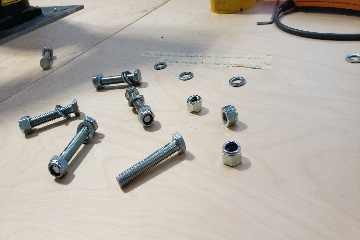Bolt: (114, 129, 188, 194)
FalseAssembly: (45, 115, 98, 182), (15, 96, 80, 135), (37, 40, 56, 73)
FinishedAssembly: (120, 88, 160, 129), (88, 68, 145, 89)
Nut: (218, 105, 241, 129), (222, 141, 242, 166), (184, 93, 205, 114)
Washer: (176, 70, 197, 83), (229, 75, 250, 87), (344, 51, 360, 65), (151, 60, 168, 72)
